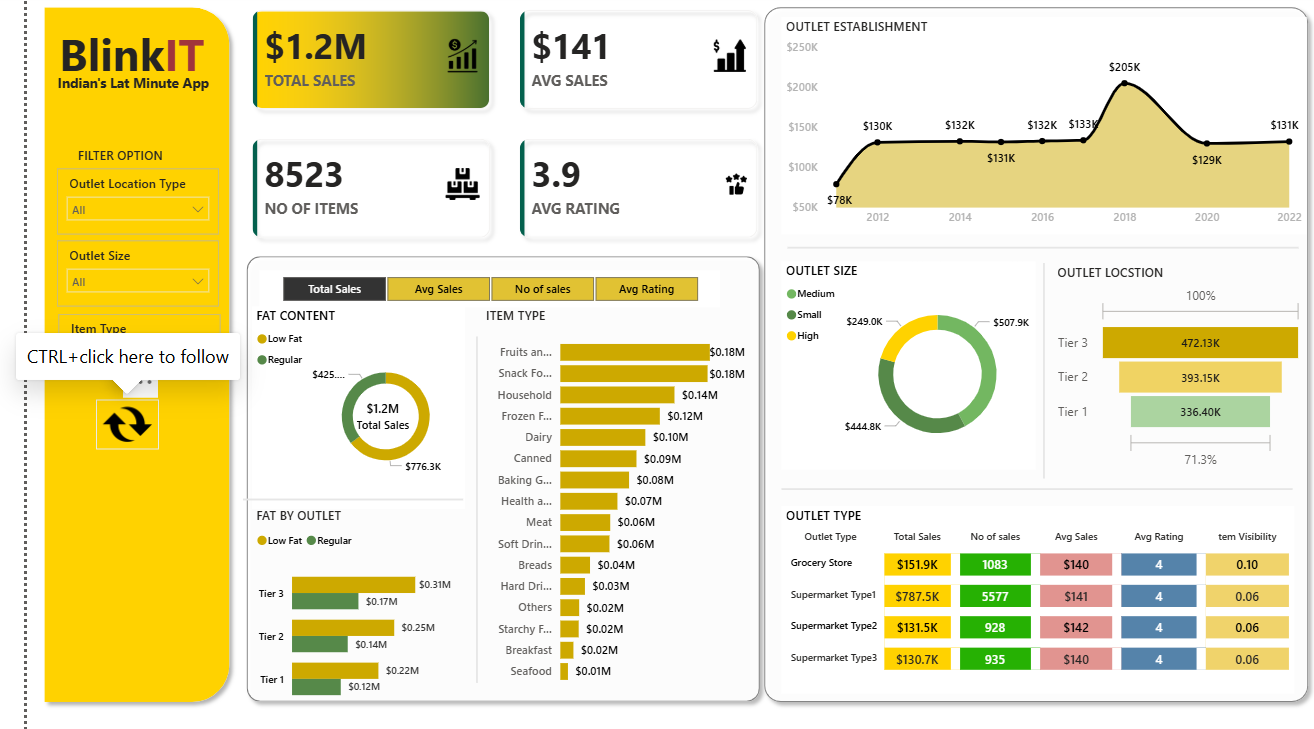

What the dashboard file says about the page in this screenshot:
{"tool":"powerbi","page":{"name":"Page 1","canvas":[1400,800],"ordinal":0},"visuals":[{"type":"shape","box":[10,0,218.3,770],"z":0},{"type":"textbox","box":[25.5,20.4,175.1,108.8],"z":1000},{"type":"textbox","box":[25,75,181.2,108.3],"z":2000},{"type":"textbox","box":[261.7,374.3,203.7,375.9],"z":3000},{"type":"cardVisual","fields":{"Data":["BlinkIT Grocery Data.Total Sales","BlinkIT Grocery Data.Avg Sales","BlinkIT Grocery Data.No of sales","BlinkIT Grocery Data.Avg Rating"]},"box":[231.9,0,570,270],"z":4000},{"type":"shape","box":[228.3,270,573.3,500],"z":5000},{"type":"donutChart","title":"FAT CONTENT","fields":{"Y":["BlinkIT Grocery Data.Total Sales"],"Category":["BlinkIT Grocery Data.Item Fat Content"]},"box":[243.6,332.9,230.6,219.2],"z":6000},{"type":"slicer","fields":{"Values":["matrics.matrics"]},"box":[251.7,293.1,498.5,39.7],"z":7000},{"type":"clusteredBarChart","title":"FAT BY OUTLET","fields":{"Y":["BlinkIT Grocery Data.Total Sales"],"Category":["BlinkIT Grocery Data.Outlet Location Type"],"Series":["BlinkIT Grocery Data.Item Fat Content"]},"box":[243.3,548.3,220,230],"z":8000},{"type":"shape","box":[233.3,531.7,238.3,21.7],"z":9000},{"type":"shape","box":[458.3,365,58.3,375],"z":10000},{"type":"barChart","title":"ITEM TYPE","fields":{"Y":["BlinkIT Grocery Data.Total Sales"],"Category":["BlinkIT Grocery Data.Item Type"]},"box":[491.7,333.3,290,418.3],"z":11000},{"type":"shape","box":[790,0,606.7,770],"z":12000},{"type":"lineChart","title":"OUTLET ESTABLISHMENT","fields":{"Y":["BlinkIT Grocery Data.Total Sales"],"Category":["BlinkIT Grocery Data.Outlet Establishment Year"]},"box":[816.7,20,568.3,235],"z":13000},{"type":"donutChart","title":"OUTLET SIZE","fields":{"Y":["BlinkIT Grocery Data.Total Sales"],"Category":["BlinkIT Grocery Data.Outlet Size"]},"box":[817.3,284.6,275,225],"z":14000},{"type":"shape","box":[823.3,250,553.3,38.3],"z":15000},{"type":"funnel","title":"OUTLET LOCSTION","fields":{"Y":["Sum(BlinkIT Grocery Data.Sales)"],"Category":["BlinkIT Grocery Data.Outlet Location Type"]},"box":[1110,285,275,228.3],"z":16000},{"type":"shape","box":[1071.7,285,58.3,233.3],"z":17000},{"type":"shape","box":[816.7,516.7,553.3,28.3],"z":18000},{"type":"pivotTable","title":"OUTLET TYPE","fields":{"Rows":["BlinkIT Grocery Data.Outlet Type"],"Values":["BlinkIT Grocery Data.Total Sales","BlinkIT Grocery Data.No of sales","BlinkIT Grocery Data.Avg Sales","BlinkIT Grocery Data.Avg Rating","Avg(BlinkIT Grocery Data.Item Visibility)"]},"box":[816.7,548.3,555,203.3],"z":19000},{"type":"slicer","fields":{"Values":["BlinkIT Grocery Data.Outlet Location Type"]},"box":[32.7,182.7,175,71.2],"z":20000},{"type":"cardVisual","fields":{"Data":["BlinkIT Grocery Data.Total Sales"]},"box":[326.7,415,118.3,71.7],"z":21000},{"type":"slicer","fields":{"Values":["BlinkIT Grocery Data.Outlet Size"]},"box":[32.7,261.5,175,71.2],"z":22000},{"type":"slicer","fields":{"Values":["BlinkIT Grocery Data.Item Type"]},"box":[34.6,340.4,175,71.2],"z":23000},{"type":"shape","title":"FILTER OPTION","box":[55.8,159.6,173.1,23.1],"z":24000},{"type":"image","box":[74.7,433.6,68.2,53.6],"z":25000}]}

Visuals, with their boxes in screenshot pixels (x1, y1, x2, y2), scaled from the page's 1400x800 canvas onto the 1314x729 screenshot:
shape: {"x1": 9, "y1": 0, "x2": 214, "y2": 702}
textbox: {"x1": 24, "y1": 19, "x2": 188, "y2": 118}
textbox: {"x1": 23, "y1": 68, "x2": 194, "y2": 167}
textbox: {"x1": 246, "y1": 341, "x2": 437, "y2": 684}
cardVisual - BlinkIT Grocery Data.Total Sales x BlinkIT Grocery Data.Avg Sales: {"x1": 218, "y1": 0, "x2": 753, "y2": 246}
shape: {"x1": 214, "y1": 246, "x2": 752, "y2": 702}
"FAT CONTENT" donutChart: {"x1": 229, "y1": 303, "x2": 445, "y2": 503}
slicer - matrics.matrics: {"x1": 236, "y1": 267, "x2": 704, "y2": 303}
"FAT BY OUTLET" clusteredBarChart: {"x1": 228, "y1": 500, "x2": 435, "y2": 709}
shape: {"x1": 219, "y1": 485, "x2": 443, "y2": 504}
shape: {"x1": 430, "y1": 333, "x2": 485, "y2": 674}
"ITEM TYPE" barChart: {"x1": 461, "y1": 304, "x2": 734, "y2": 685}
shape: {"x1": 741, "y1": 0, "x2": 1311, "y2": 702}
"OUTLET ESTABLISHMENT" lineChart: {"x1": 767, "y1": 18, "x2": 1300, "y2": 232}
"OUTLET SIZE" donutChart: {"x1": 767, "y1": 259, "x2": 1025, "y2": 464}
shape: {"x1": 773, "y1": 228, "x2": 1292, "y2": 263}
"OUTLET LOCSTION" funnel: {"x1": 1042, "y1": 260, "x2": 1300, "y2": 468}
shape: {"x1": 1006, "y1": 260, "x2": 1061, "y2": 472}
shape: {"x1": 767, "y1": 471, "x2": 1286, "y2": 497}
"OUTLET TYPE" pivotTable: {"x1": 767, "y1": 500, "x2": 1287, "y2": 685}
slicer - BlinkIT Grocery Data.Outlet Location Type: {"x1": 31, "y1": 166, "x2": 195, "y2": 231}
cardVisual - BlinkIT Grocery Data.Total Sales: {"x1": 307, "y1": 378, "x2": 418, "y2": 444}
slicer - BlinkIT Grocery Data.Outlet Size: {"x1": 31, "y1": 238, "x2": 195, "y2": 303}
slicer - BlinkIT Grocery Data.Item Type: {"x1": 32, "y1": 310, "x2": 197, "y2": 375}
"FILTER OPTION" shape: {"x1": 52, "y1": 145, "x2": 215, "y2": 166}
image: {"x1": 70, "y1": 395, "x2": 134, "y2": 444}
